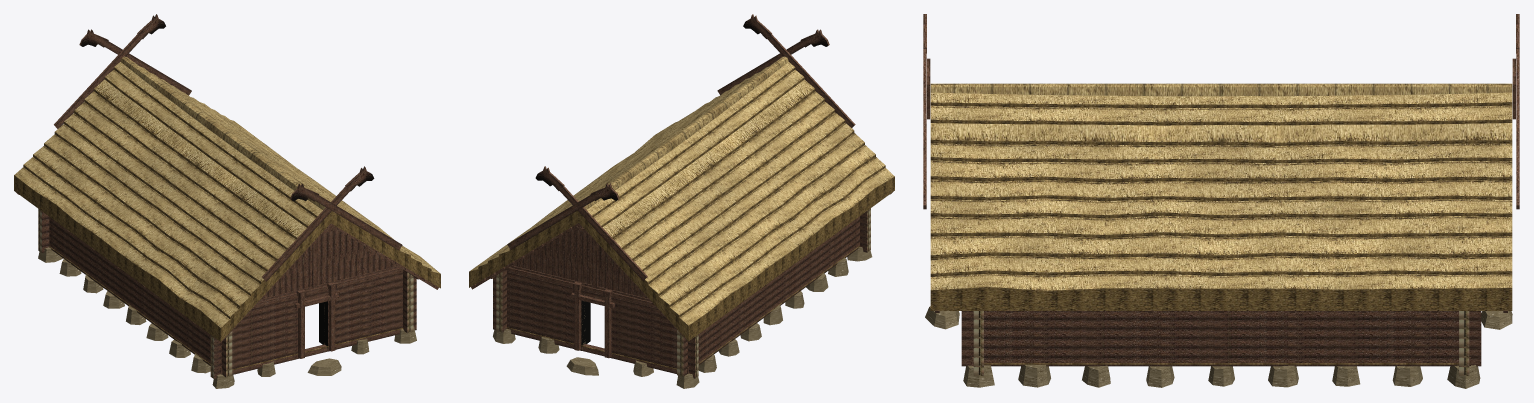
The model's file is dvorec-srub-construction.glb.
3 views of the same model, side by side, from view 1: azimuth 30°, elevation 25°; view 2: azimuth 150°, elevation 25°; view 3: azimuth 270°, elevation 25° (orthographic). The views are drawn at different scales.
Parts seen in each view (by area): view 1: dvorec-srub-thatch-1, dvorec-srub-ridge, dvorec-srub-thatch-3, dvorec-srub-thatch-9, dvorec-srub-thatch-4, dvorec-srub-thatch-7, dvorec-srub-thatch-6, dvorec-srub-thatch-2, dvorec-srub-thatch-8, dvorec-srub-thatch-5, dvorec-srub-thatch-10, dvorec-srub-stones (+16 smaller); view 2: dvorec-srub-thatch-1, dvorec-srub-ridge, dvorec-srub-thatch-3, dvorec-srub-thatch-9, dvorec-srub-thatch-4, dvorec-srub-thatch-7, dvorec-srub-thatch-6, dvorec-srub-thatch-2, dvorec-srub-thatch-8, dvorec-srub-thatch-5, dvorec-srub-thatch-10, dvorec-srub-stones (+16 smaller); view 3: dvorec-srub-thatch-1, dvorec-srub-thatch-3, dvorec-srub-thatch-9, dvorec-srub-thatch-4, dvorec-srub-thatch-7, dvorec-srub-thatch-6, dvorec-srub-thatch-2, dvorec-srub-thatch-8, dvorec-srub-thatch-10, dvorec-srub-thatch-5, dvorec-srub-ridge, dvorec-srub-stones (+9 smaller).
Part boxes in pixels (box(x1,y1,x2,y2)): dvorec-srub-thatch-1: box(14, 120, 440, 341); dvorec-srub-ridge: box(54, 34, 402, 281); dvorec-srub-thatch-3: box(33, 109, 421, 321); dvorec-srub-thatch-9: box(94, 73, 360, 255); dvorec-srub-thatch-4: box(44, 102, 410, 309); dvorec-srub-thatch-7: box(74, 85, 380, 276); dvorec-srub-thatch-6: box(64, 92, 390, 287); dvorec-srub-thatch-2: box(23, 115, 431, 331); dvorec-srub-thatch-8: box(84, 79, 370, 265); dvorec-srub-thatch-5: box(55, 97, 400, 297); dvorec-srub-thatch-10: box(105, 66, 350, 243); dvorec-srub-stones: box(38, 247, 416, 388); dvorec-srub-thatch-1: box(469, 122, 894, 341); dvorec-srub-ridge: box(507, 34, 855, 280); dvorec-srub-thatch-3: box(488, 112, 875, 320); dvorec-srub-thatch-9: box(548, 72, 814, 254); dvorec-srub-thatch-4: box(499, 102, 864, 308); dvorec-srub-thatch-7: box(529, 83, 834, 276); dvorec-srub-thatch-6: box(518, 90, 844, 287); dvorec-srub-thatch-2: box(478, 118, 885, 330); dvorec-srub-thatch-8: box(539, 78, 824, 265); dvorec-srub-thatch-5: box(509, 96, 853, 297); dvorec-srub-thatch-10: box(559, 66, 803, 243); dvorec-srub-stones: box(493, 247, 872, 388); dvorec-srub-thatch-1: box(930, 270, 1512, 310); dvorec-srub-thatch-3: box(930, 232, 1512, 255); dvorec-srub-thatch-9: box(930, 119, 1512, 142); dvorec-srub-thatch-4: box(930, 212, 1512, 234); dvorec-srub-thatch-7: box(930, 157, 1512, 179); dvorec-srub-thatch-6: box(930, 176, 1512, 197); dvorec-srub-thatch-2: box(930, 252, 1512, 273); dvorec-srub-thatch-8: box(930, 140, 1512, 159); dvorec-srub-thatch-10: box(930, 102, 1512, 122); dvorec-srub-thatch-5: box(930, 195, 1512, 215); dvorec-srub-ridge: box(923, 48, 1519, 209); dvorec-srub-stones: box(925, 306, 1512, 388).
Size of the model in its own units: 7.5 by 6.56 by 12.51.
1 material, 1 textured.
